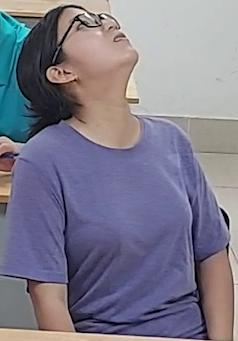Turning_Around: (0, 1, 235, 334)
